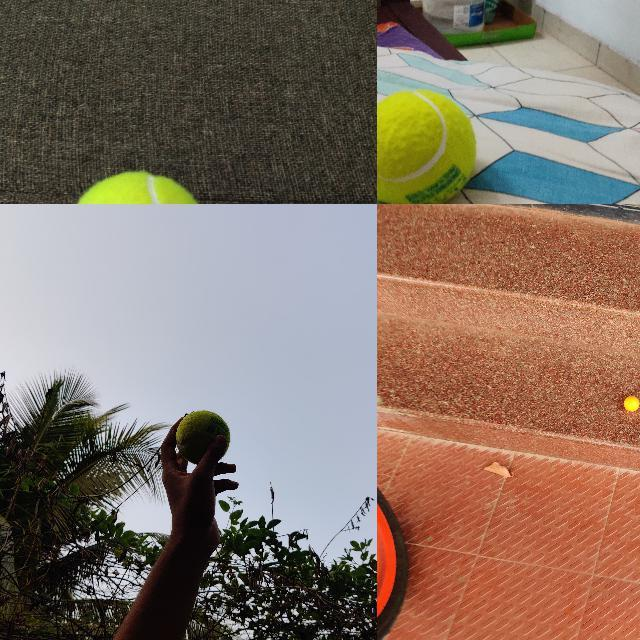tennis-ball: (377, 88, 477, 203), (62, 171, 211, 203), (174, 409, 231, 465)
